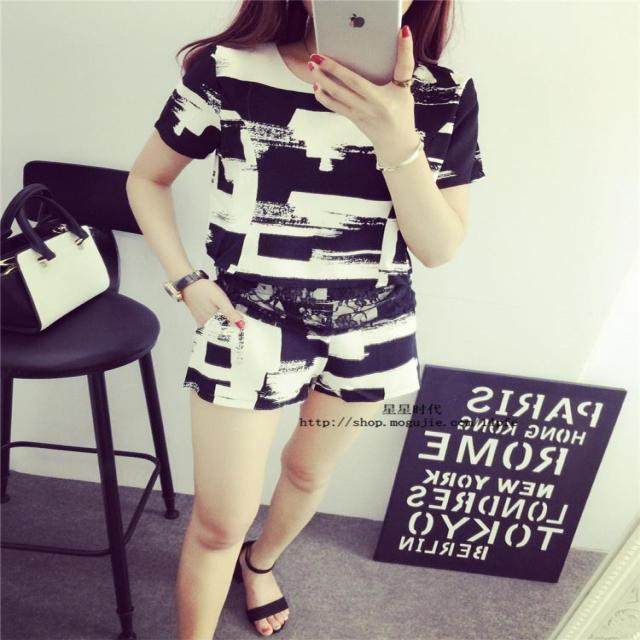short-sleeve-dress: (137, 36, 444, 435)
